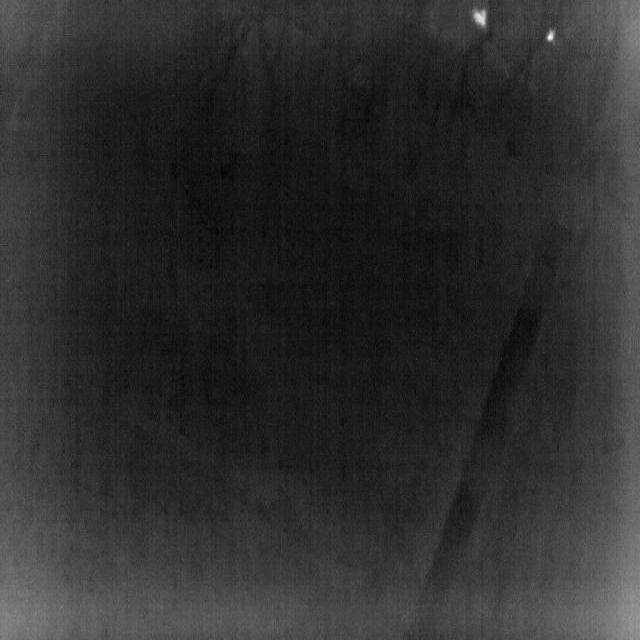deer: (472, 6, 488, 32), (545, 26, 559, 44)
